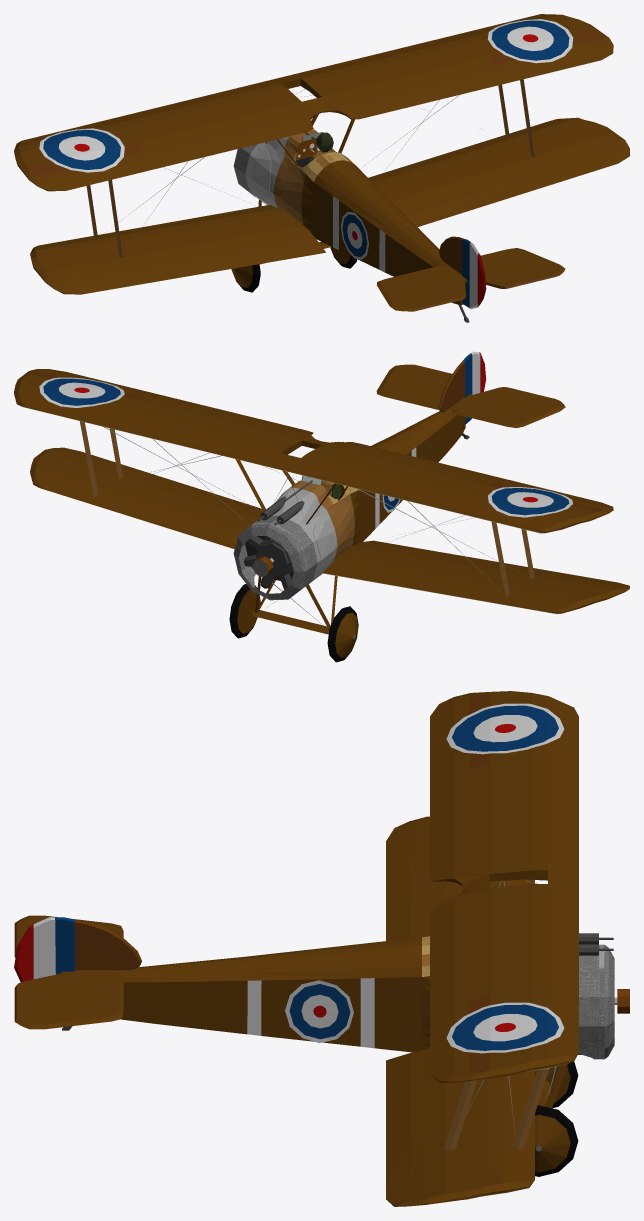
The model's file is camelF110NP.obj.
3 renders of one model, top to bottom at view 1: azimuth 30°, elevation 25°; view 2: azimuth 150°, elevation 25°; view 3: azimuth 270°, elevation 25°, orthographic. The views are drawn at different scales.
Visible parts, largest first — view 1: ShapeIndexedFaceSet.058_ShapeIndexedFaceSet.059, ShapeIndexedFaceSet.063_ShapeIndexedFaceSet.064, ShapeIndexedFaceSet.012_ShapeIndexedFaceSet.013, ShapeIndexedFaceSet.060_ShapeIndexedFaceSet.061, ShapeIndexedFaceSet.070_ShapeIndexedFaceSet.071, ShapeIndexedFaceSet.024_ShapeIndexedFaceSet.025, ShapeIndexedFaceSet.072_ShapeIndexedFaceSet.073, ShapeIndexedFaceSet.069_ShapeIndexedFaceSet.070, ShapeIndexedFaceSet.004_ShapeIndexedFaceSet.005, ShapeIndexedFaceSet_ShapeIndexedFaceSet.001, ShapeIndexedFaceSet.008_ShapeIndexedFaceSet.009, ShapeIndexedFaceSet.076_ShapeIndexedFaceSet.077 (+13 smaller); view 2: ShapeIndexedFaceSet.063_ShapeIndexedFaceSet.064, ShapeIndexedFaceSet.058_ShapeIndexedFaceSet.059, ShapeIndexedFaceSet.012_ShapeIndexedFaceSet.013, ShapeIndexedFaceSet.060_ShapeIndexedFaceSet.061, ShapeIndexedFaceSet.030_ShapeIndexedFaceSet.031, ShapeIndexedFaceSet.002_ShapeIndexedFaceSet.003, ShapeIndexedFaceSet.024_ShapeIndexedFaceSet.025, ShapeIndexedFaceSet.070_ShapeIndexedFaceSet.071, ShapeIndexedFaceSet.069_ShapeIndexedFaceSet.070, ShapeIndexedFaceSet.033_ShapeIndexedFaceSet.034, ShapeIndexedFaceSet_ShapeIndexedFaceSet.001, ShapeIndexedFaceSet.050_ShapeIndexedFaceSet.051 (+12 smaller); view 3: ShapeIndexedFaceSet.063_ShapeIndexedFaceSet.064, ShapeIndexedFaceSet.012_ShapeIndexedFaceSet.013, ShapeIndexedFaceSet.058_ShapeIndexedFaceSet.059, ShapeIndexedFaceSet.070_ShapeIndexedFaceSet.071, ShapeIndexedFaceSet.069_ShapeIndexedFaceSet.070, ShapeIndexedFaceSet.060_ShapeIndexedFaceSet.061, ShapeIndexedFaceSet.030_ShapeIndexedFaceSet.031, ShapeIndexedFaceSet.004_ShapeIndexedFaceSet.005, ShapeIndexedFaceSet.024_ShapeIndexedFaceSet.025, ShapeIndexedFaceSet.072_ShapeIndexedFaceSet.073, ShapeIndexedFaceSet.076_ShapeIndexedFaceSet.077, ShapeIndexedFaceSet.062_ShapeIndexedFaceSet.063 (+12 smaller).
Part boxes in pixels (x1=…): ShapeIndexedFaceSet.058_ShapeIndexedFaceSet.059: x1=30, y1=117, x2=624, y2=281; ShapeIndexedFaceSet.063_ShapeIndexedFaceSet.064: x1=14, y1=14, x2=608, y2=179; ShapeIndexedFaceSet.012_ShapeIndexedFaceSet.013: x1=313, y1=160, x2=463, y2=305; ShapeIndexedFaceSet.060_ShapeIndexedFaceSet.061: x1=377, y1=236, x2=550, y2=300; ShapeIndexedFaceSet.070_ShapeIndexedFaceSet.071: x1=43, y1=20, x2=569, y2=167; ShapeIndexedFaceSet.024_ShapeIndexedFaceSet.025: x1=386, y1=260, x2=565, y2=311; ShapeIndexedFaceSet.072_ShapeIndexedFaceSet.073: x1=510, y1=140, x2=629, y2=192; ShapeIndexedFaceSet.069_ShapeIndexedFaceSet.070: x1=39, y1=19, x2=573, y2=168; ShapeIndexedFaceSet.004_ShapeIndexedFaceSet.005: x1=45, y1=260, x2=174, y2=294; ShapeIndexedFaceSet_ShapeIndexedFaceSet.001: x1=273, y1=130, x2=355, y2=225; ShapeIndexedFaceSet.008_ShapeIndexedFaceSet.009: x1=29, y1=150, x2=158, y2=191; ShapeIndexedFaceSet.076_ShapeIndexedFaceSet.077: x1=494, y1=37, x2=613, y2=82; ShapeIndexedFaceSet.063_ShapeIndexedFaceSet.064: x1=14, y1=371, x2=608, y2=532; ShapeIndexedFaceSet.058_ShapeIndexedFaceSet.059: x1=30, y1=449, x2=624, y2=613; ShapeIndexedFaceSet.012_ShapeIndexedFaceSet.013: x1=360, y1=405, x2=465, y2=542; ShapeIndexedFaceSet.060_ShapeIndexedFaceSet.061: x1=376, y1=366, x2=550, y2=428; ShapeIndexedFaceSet.030_ShapeIndexedFaceSet.031: x1=233, y1=515, x2=317, y2=600; ShapeIndexedFaceSet.002_ShapeIndexedFaceSet.003: x1=272, y1=487, x2=337, y2=583; ShapeIndexedFaceSet.024_ShapeIndexedFaceSet.025: x1=386, y1=364, x2=565, y2=414; ShapeIndexedFaceSet.070_ShapeIndexedFaceSet.071: x1=43, y1=378, x2=569, y2=515; ShapeIndexedFaceSet.069_ShapeIndexedFaceSet.070: x1=39, y1=377, x2=572, y2=517; ShapeIndexedFaceSet.033_ShapeIndexedFaceSet.034: x1=235, y1=459, x2=347, y2=634; ShapeIndexedFaceSet_ShapeIndexedFaceSet.001: x1=290, y1=480, x2=354, y2=560; ShapeIndexedFaceSet.050_ShapeIndexedFaceSet.051: x1=237, y1=589, x2=358, y2=657; ShapeIndexedFaceSet.063_ShapeIndexedFaceSet.064: x1=430, y1=691, x2=578, y2=1080; ShapeIndexedFaceSet.012_ShapeIndexedFaceSet.013: x1=88, y1=937, x2=421, y2=1052; ShapeIndexedFaceSet.058_ShapeIndexedFaceSet.059: x1=386, y1=816, x2=534, y2=1204; ShapeIndexedFaceSet.070_ShapeIndexedFaceSet.071: x1=469, y1=705, x2=558, y2=1050; ShapeIndexedFaceSet.069_ShapeIndexedFaceSet.070: x1=469, y1=703, x2=564, y2=1053; ShapeIndexedFaceSet.060_ShapeIndexedFaceSet.061: x1=61, y1=919, x2=141, y2=1027; ShapeIndexedFaceSet.030_ShapeIndexedFaceSet.031: x1=578, y1=945, x2=614, y2=1059; ShapeIndexedFaceSet.004_ShapeIndexedFaceSet.005: x1=386, y1=817, x2=425, y2=912; ShapeIndexedFaceSet.024_ShapeIndexedFaceSet.025: x1=14, y1=915, x2=61, y2=1029; ShapeIndexedFaceSet.072_ShapeIndexedFaceSet.073: x1=386, y1=1136, x2=426, y2=1206; ShapeIndexedFaceSet.076_ShapeIndexedFaceSet.077: x1=430, y1=1001, x2=470, y2=1082; ShapeIndexedFaceSet.062_ShapeIndexedFaceSet.063: x1=74, y1=919, x2=138, y2=970.
Size of the model in its own units: 85.4 by 27.64 by 57.44.
